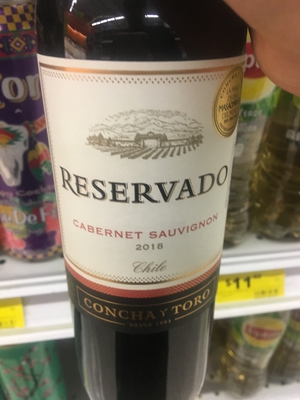reservado cabernet sauvignon: (31, 4, 247, 400)
